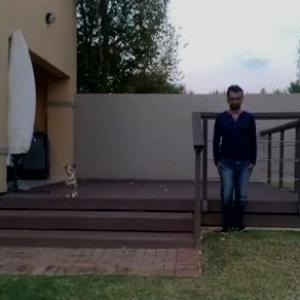follow: (212, 78, 258, 245)
